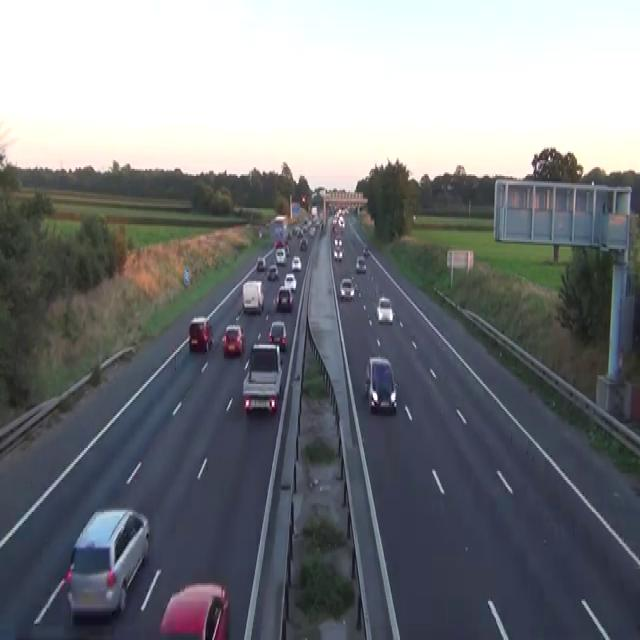Car: (65, 507, 150, 622), (159, 582, 229, 638), (364, 356, 397, 414), (188, 315, 213, 352), (221, 324, 245, 356), (268, 320, 287, 350), (273, 285, 293, 311), (376, 297, 394, 323), (339, 278, 354, 300), (274, 238, 289, 256), (284, 272, 296, 290), (355, 256, 366, 274), (275, 247, 286, 265), (267, 263, 278, 279), (291, 254, 301, 270), (256, 256, 265, 270), (333, 247, 342, 261), (299, 236, 307, 249), (333, 237, 343, 247), (292, 226, 302, 236), (354, 283, 361, 297), (362, 245, 369, 256), (284, 244, 290, 256), (338, 217, 345, 227), (446, 182, 454, 190), (308, 226, 315, 234), (353, 205, 358, 215), (258, 228, 262, 238), (301, 194, 305, 204), (412, 214, 416, 222)
Truck: (242, 342, 282, 414), (242, 279, 264, 313)
